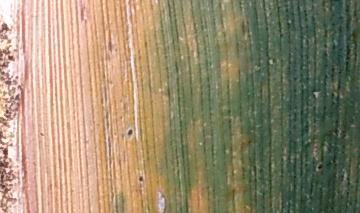tarspot: (125, 126, 135, 140), (314, 161, 325, 173), (137, 173, 145, 184)
